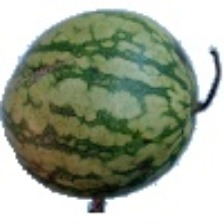watermelon: (31, 16, 220, 194)
